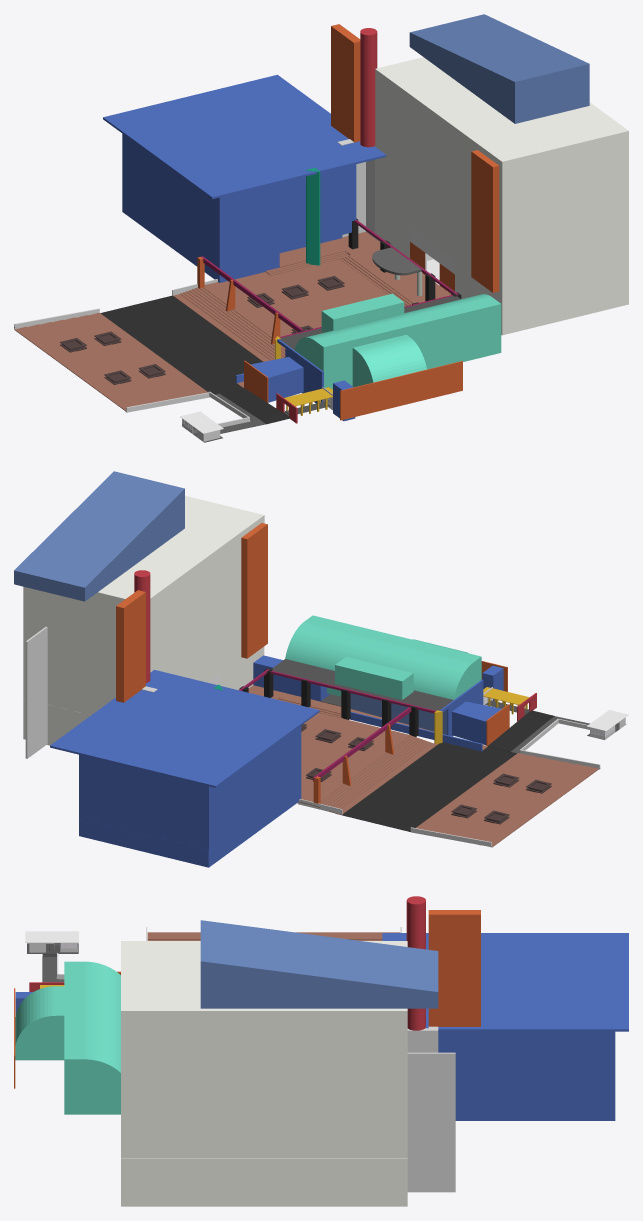
File: SLIIT-env.fbx
3 renders of one model, top to bottom at view 1: azimuth 30°, elevation 25°; view 2: azimuth 150°, elevation 25°; view 3: azimuth 270°, elevation 25°, orthographic. The views are drawn at different scales.
Parts seen in each view (by area): view 1: Cube.122, Cube.120, Cube.123, Cube.107, Cube.121, foot.002, satir-1.011, Cube.118, Cube.116, Cube.117, Cube.062, Cube.125 (+26 smaller); view 2: Cube.122, Cube.120, Cube.123, Cube.107, foot.002, satir-1.011, Cube.115, Cube.116, Cube.118, Cube.117, Cube.062, Cube.106 (+24 smaller); view 3: Cube.122, Cube.123, Cube.120, Cube.121, Cube.107, sliit building, Cube.106, Cube.118, Cube.116, Cube.126, Cube.115, Cube.117 (+6 smaller).
Boxes of the visible parts, bbox=[...] form: Cube.122: bbox=[375, 57, 628, 293]; Cube.120: bbox=[103, 74, 386, 199]; Cube.123: bbox=[409, 14, 589, 123]; Cube.107: bbox=[294, 294, 501, 389]; Cube.121: bbox=[375, 201, 628, 335]; foot.002: bbox=[100, 295, 262, 394]; satir-1.011: bbox=[203, 259, 387, 337]; Cube.118: bbox=[122, 139, 356, 228]; Cube.116: bbox=[122, 175, 356, 264]; Cube.117: bbox=[122, 157, 356, 246]; Cube.062: bbox=[471, 150, 499, 292]; Cube.125: bbox=[340, 361, 462, 420]; Cube.122: bbox=[23, 496, 264, 715]; Cube.120: bbox=[50, 670, 319, 787]; Cube.123: bbox=[14, 471, 184, 601]; Cube.107: bbox=[285, 615, 481, 699]; foot.002: bbox=[342, 742, 516, 831]; satir-1.011: bbox=[299, 713, 410, 805]; Cube.115: bbox=[79, 783, 301, 867]; Cube.116: bbox=[79, 766, 301, 850]; Cube.118: bbox=[79, 731, 301, 815]; Cube.117: bbox=[79, 748, 301, 832]; Cube.062: bbox=[241, 523, 267, 658]; Cube.106: bbox=[116, 590, 145, 702]; Cube.122: bbox=[121, 941, 407, 1158]; Cube.123: bbox=[200, 920, 438, 1008]; Cube.120: bbox=[382, 933, 628, 1031]; Cube.121: bbox=[121, 1158, 407, 1206]; Cube.107: bbox=[64, 961, 120, 1114]; sliit building: bbox=[407, 1052, 455, 1192]; Cube.106: bbox=[428, 910, 480, 1026]; Cube.118: bbox=[438, 1039, 615, 1059]; Cube.116: bbox=[455, 1079, 615, 1100]; Cube.126: bbox=[15, 986, 64, 1060]; Cube.115: bbox=[455, 1100, 615, 1120]; Cube.117: bbox=[455, 1059, 615, 1080].
Bounding box in the file's own units: 29971 × 13207 × 28789.
